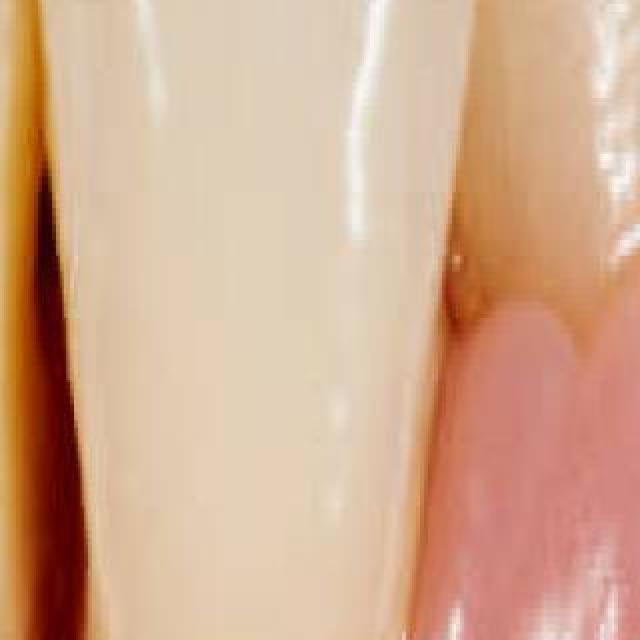maligned: (0, 0, 42, 620)
spacing: (0, 74, 156, 640)
